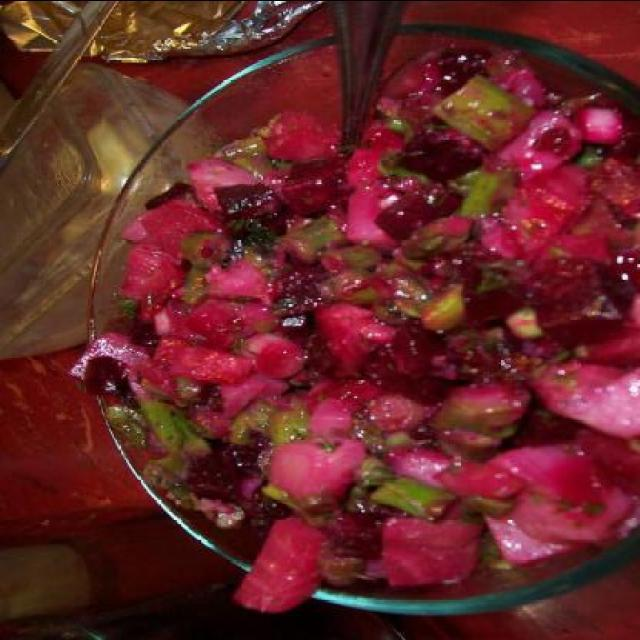Salad: (69, 52, 640, 614)
